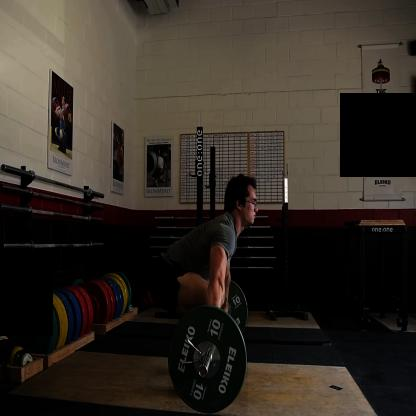barbell: (169, 305, 249, 416)
